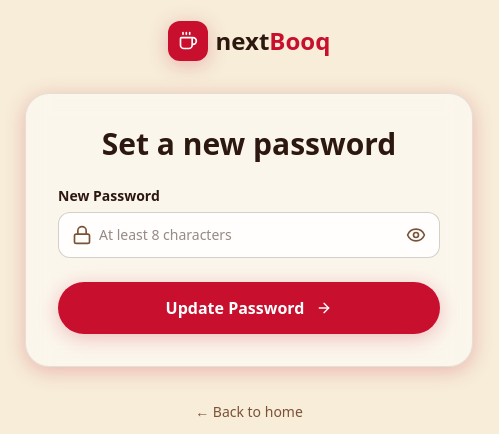
Test case: ResetPasswordPage › shows a success message and login link after a successful reset
Step 1. Type "BrandNewPassword1!" into the password field with placeholder "At least 8 characters" → (249, 235), box [58,212,440,258]
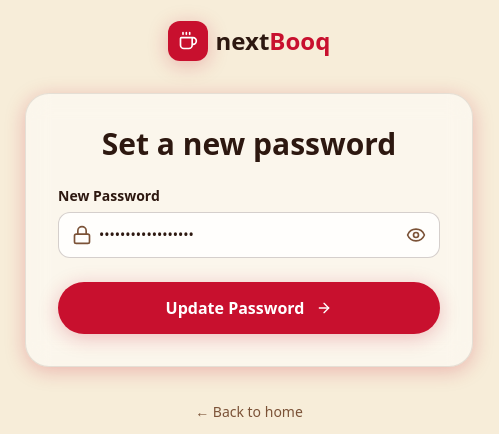
Step 2. Click the button "Update Password" → (249, 308), box [58,282,440,334]
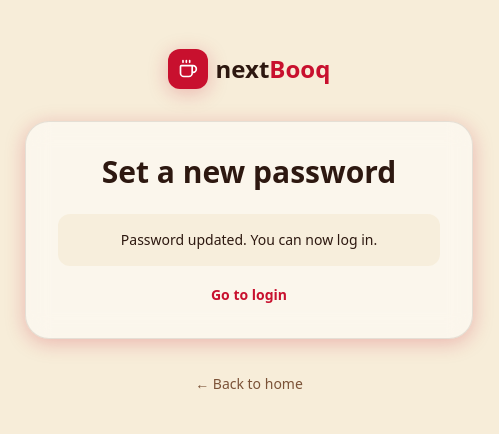
expect the text "Password updated. You can now log in." is shown: met, box [58,214,440,266]
